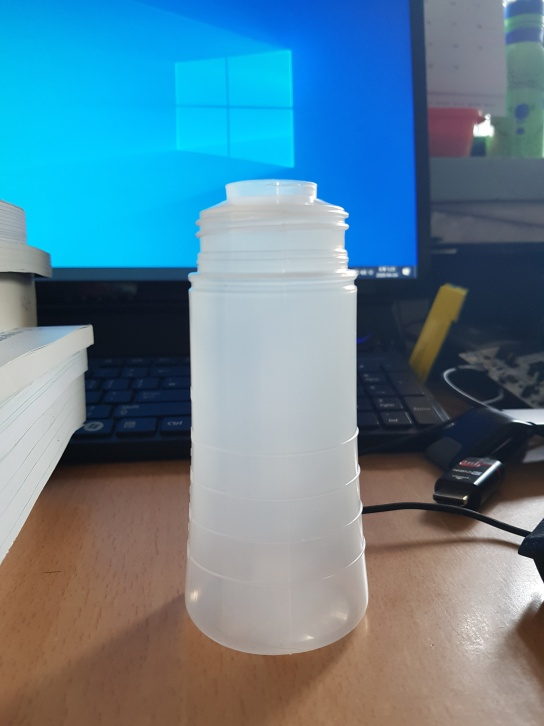Plastic: (183, 177, 373, 658)
